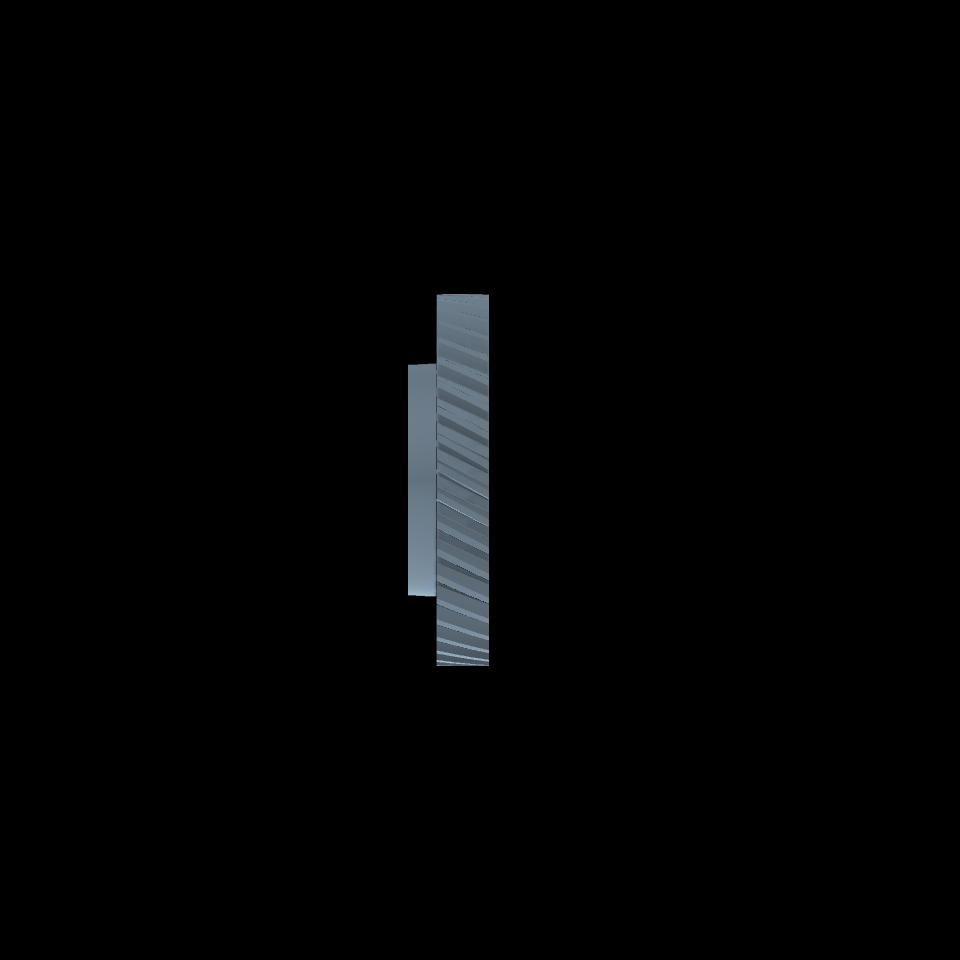Helical: (436, 295, 487, 665)
